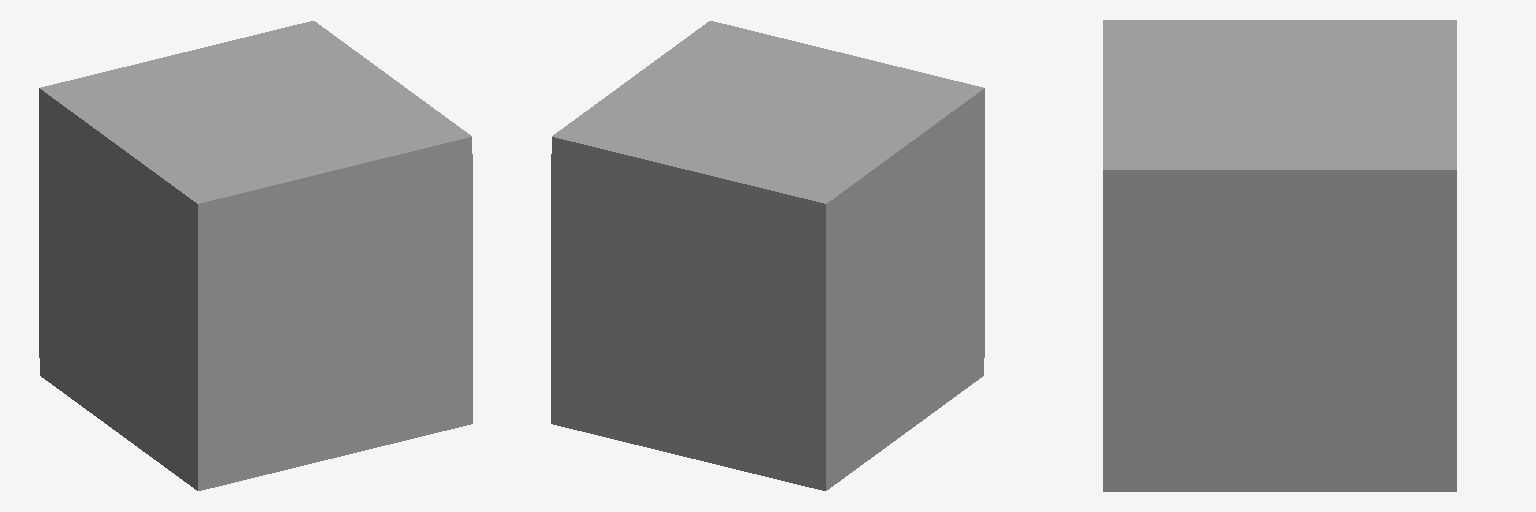
robot.urdf — universal_robot:
<?xml version="1.0" ?>
<!--FOR GRIPPER, THERE IS NO LINK INERTIA DEFINED HERE-->
<robot name="universal_robot">
  <link name="base_link">
    <visual>
      <geometry>
        <mesh filename="ur5/visual/base.obj"/>
      </geometry>
      <material name="LightGrey">
        <color rgba="0.7 0.7 0.7 1.0"/>
      </material>
    </visual>
    <collision>
      <geometry>
        <mesh filename="ur5/collision/base.stl"/>
      </geometry>
    </collision>
    <inertial>
      <mass value="4.0"/>
      <origin rpy="0 0 0" xyz="0.0 0.0 0.0"/>
      <inertia ixx="0.00443333156" ixy="0.0" ixz="0.0" iyy="0.00443333156" iyz="0.0" izz="0.0072"/>
    </inertial>
  </link>

  <joint name="joint1" type="revolute">
    <parent link="base_link"/>
    <child link="shoulder_link"/>
    <origin rpy="0.0 0.0 0.0" xyz="0.0 0.0 0.089159"/>
    <axis xyz="0 0 1"/>
    <limit effort="150.0" lower="-3.14159265359" upper="3.14159265359" velocity="3.15"/>
    <dynamics damping="0.0" friction="0.0"/>
  </joint>

  <link name="shoulder_link">
    <visual>
      <geometry>
        <mesh filename="ur5/visual/shoulder.obj"/>
      </geometry>
      <material name="LightGrey">
        <color rgba="0.7 0.7 0.7 1.0"/>
      </material>
    </visual>
    <collision>
      <geometry>
        <mesh filename="ur5/collision/shoulder.stl"/>
      </geometry>
    </collision>
    <inertial>
      <mass value="3.7"/>
      <origin rpy="0 0 0" xyz="0.0 0.0 0.0"/>
      <inertia ixx="0.010267495893" ixy="0.0" ixz="0.0" iyy="0.010267495893" iyz="0.0" izz="0.00666"/>
    </inertial>
  </link>

  <joint name="joint2" type="revolute">
    <parent link="shoulder_link"/>
    <child link="upper_arm_link"/>
    <origin rpy="0 0 0" xyz="0.0 0.13585 0.0"/>
    <axis xyz="0 1 0"/>
    <limit effort="150.0" lower="-3.14159265359" upper="3.14159265359" velocity="3.15"/>
    <dynamics damping="0.0" friction="0.0"/>
  </joint>

  <link name="upper_arm_link">
    <visual>
      <geometry>
        <mesh filename="ur5/visual/upperarm.obj"/>
      </geometry>
      <material name="LightGrey">
        <color rgba="0.7 0.7 0.7 1.0"/>
      </material>
    </visual>
    <collision>
      <geometry>
        <mesh filename="ur5/collision/upperarm.stl"/>
      </geometry>
    </collision>
    <inertial>
      <mass value="8.393"/>
      <origin rpy="0 0 0" xyz="0.0 0.0 0.28"/>
      <inertia ixx="0.22689067591" ixy="0.0" ixz="0.0" iyy="0.22689067591" iyz="0.0" izz="0.0151074"/>
    </inertial>
  </link>
  <joint name="joint3" type="revolute">
    <parent link="upper_arm_link"/>
    <child link="forearm_link"/>
    <origin rpy="0.0 0.0 0.0" xyz="0.0 -0.1197 0.425"/>
    <axis xyz="0 1 0"/>
    <limit effort="150.0" lower="-3.14159265359" upper="3.14159265359" velocity="3.15"/>
    <dynamics damping="0.0" friction="0.0"/>
  </joint>
  <link name="forearm_link">
    <visual>
      <geometry>
        <mesh filename="ur5/visual/forearm.obj"/>
      </geometry>
      <material name="LightGrey">
        <color rgba="0.7 0.7 0.7 1.0"/>
      </material>
    </visual>
    <collision>
      <geometry>
        <mesh filename="ur5/collision/forearm.stl"/>
      </geometry>
    </collision>
    <inertial>
      <mass value="2.275"/>
      <origin rpy="0 0 0" xyz="0.0 0.0 0.25"/>
      <inertia ixx="0.049443313556" ixy="0.0" ixz="0.0" iyy="0.049443313556" iyz="0.0" izz="0.004095"/>
    </inertial>
  </link>
  <joint name="joint4" type="revolute">
    <parent link="forearm_link"/>
    <child link="wrist_1_link"/>
    <origin rpy="0.0 0 0.0" xyz="0.0 0.0 0.39225"/>
    <axis xyz="0 1 0"/>
    <limit effort="28.0" lower="-3.14159265359" upper="3.14159265359" velocity="3.2"/>
    <dynamics damping="0.0" friction="0.0"/>
  </joint>
  <link name="wrist_1_link">
    <visual>
      <geometry>
        <mesh filename="ur5/visual/wrist1.obj"/>
      </geometry>
      <material name="LightGrey">
        <color rgba="0.7 0.7 0.7 1.0"/>
      </material>
    </visual>
    <collision>
      <geometry>
        <mesh filename="ur5/collision/wrist1.stl"/>
      </geometry>
    </collision>
    <inertial>
      <mass value="1.219"/>
      <origin rpy="0 0 0" xyz="0.0 0.0 0.0"/>
      <inertia ixx="0.111172755531" ixy="0.0" ixz="0.0" iyy="0.111172755531" iyz="0.0" izz="0.21942"/>
    </inertial>
  </link>
  <joint name="joint5" type="revolute">
    <parent link="wrist_1_link"/>
    <child link="wrist_2_link"/>
    <origin rpy="0.0 0.0 0.0" xyz="0.0 0.093 0.0"/>
    <axis xyz="0 0 1"/>
    <limit effort="28.0" lower="-3.14159265359" upper="3.14159265359" velocity="3.2"/>
    <dynamics damping="0.0" friction="0.0"/>
  </joint>
  <link name="wrist_2_link">
    <visual>
      <geometry>
        <mesh filename="ur5/visual/wrist2.obj"/>
      </geometry>
      <material name="LightGrey">
        <color rgba="0.7 0.7 0.7 1.0"/>
      </material>
    </visual>
    <collision>
      <geometry>
        <mesh filename="ur5/collision/wrist2.stl"/>
      </geometry>
    </collision>
    <inertial>
      <mass value="1.219"/>
      <origin rpy="0 0 0" xyz="0.0 0.0 0.0"/>
      <inertia ixx="0.111172755531" ixy="0.0" ixz="0.0" iyy="0.111172755531" iyz="0.0" izz="0.21942"/>
    </inertial>
  </link>
  <joint name="joint6" type="revolute">
    <parent link="wrist_2_link"/>
    <child link="wrist_3_link"/>
    <origin rpy="0.0 0.0 0.0" xyz="0.0 0.0 0.09465"/>
    <axis xyz="0 1 0"/>
    <limit effort="28.0" lower="-3.14159265359" upper="3.14159265359" velocity="3.2"/>
    <dynamics damping="0.0" friction="0.0"/>
  </joint>

  <link name="wrist_3_link">
    <visual>
      <geometry>
        <mesh filename="ur5/visual/wrist3.obj"/>
      </geometry>
      <material name="LightGrey">
        <color rgba="0.7 0.7 0.7 1.0"/>
      </material>
    </visual>
    <collision>
      <geometry>
        <mesh filename="ur5/collision/wrist3.stl"/>
      </geometry>
    </collision>
    <inertial>
      <mass value="0.1879"/>
      <origin rpy="0 0 0" xyz="0.0 0.0 0.0"/>
      <inertia ixx="0.0171364731454" ixy="0.0" ixz="0.0" iyy="0.0171364731454" iyz="0.0" izz="0.033822"/>
    </inertial>
  </link>

  <joint name="joint7" type="fixed">
    <parent link="wrist_3_link"/>
    <child link="placeholder"/>
    <origin rpy="-1.5708 3.14 0" xyz="0.0 0.08 0"/>
    <axis xyz="0 0 1"/>
  </joint>

  <link name="placeholder">
    <visual>
      <geometry>
        <box size="0.01 0.01 0.01"/>
      </geometry>
    </visual>
  </link>

</robot>

--- Render facts (derived) ---
The picture shows the robot from 3 angles, left to right: view 1: azimuth 30°, elevation 25°; view 2: azimuth 150°, elevation 25°; view 3: azimuth 270°, elevation 25°; orthographic projection.
Robot: universal_robot — 8 links, 7 joints (6 revolute, 1 fixed); root link base_link; default pose: every joint at zero.
Visible links, largest first — view 1: placeholder; view 2: placeholder; view 3: placeholder.
Link boxes in pixels (box(x1,y1,x2,y2)): placeholder: box(39, 21, 472, 490); placeholder: box(551, 21, 984, 490); placeholder: box(1103, 20, 1456, 491).
Bounding box of the posed robot: 0.01 × 0.01 × 0.01 m (x, y, z).
0 mesh visuals loaded from 7 distinct referenced files (none loaded); not drawn: 7 (reference not matched to a file when rendering).